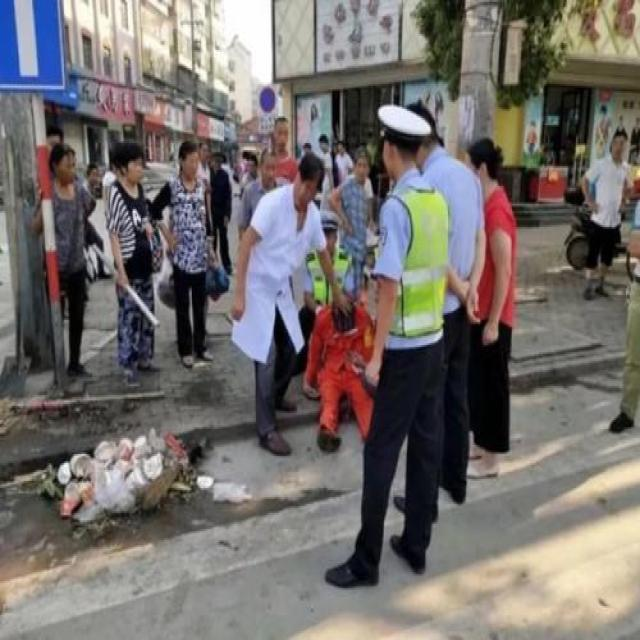10-: (37, 96, 639, 590)
down: (300, 288, 380, 459)
